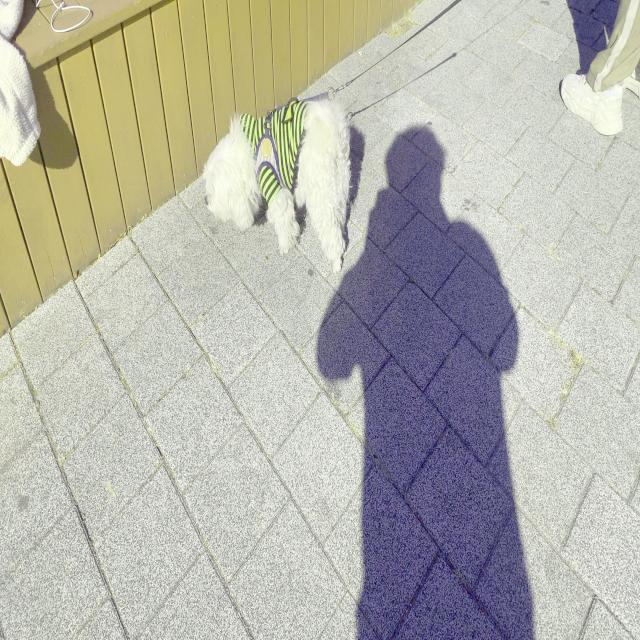Dog: (204, 100, 352, 274)
